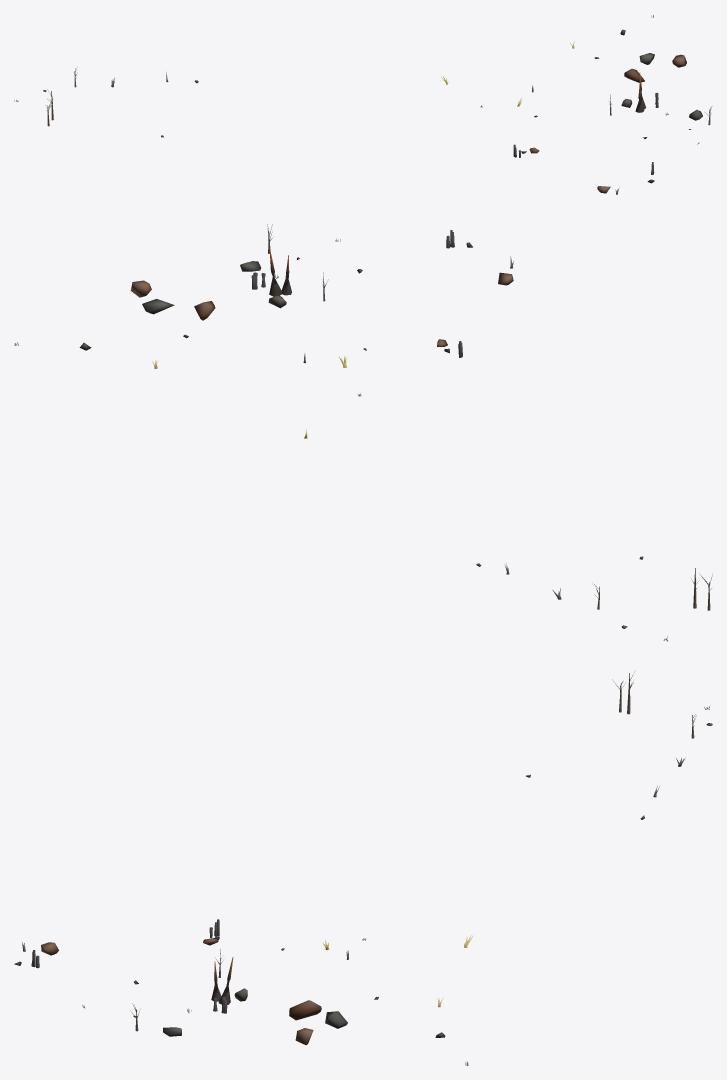
Rendered from ash_land_scatter_c22_31.glb.
3 views of the same model, one above another, from view 1: azimuth 30°, elevation 25°; view 2: azimuth 150°, elevation 25°; view 3: azimuth 270°, elevation 25° (orthographic). The views are drawn at different scales.
Visible parts, largest first — view 1: ash_land_scatter_c22_31; view 2: ash_land_scatter_c22_31; view 3: ash_land_scatter_c22_31.
Boxes of the visible parts, bbox=[...] form: ash_land_scatter_c22_31: bbox=[14, 15, 711, 194]; ash_land_scatter_c22_31: bbox=[14, 224, 712, 641]; ash_land_scatter_c22_31: bbox=[14, 670, 712, 1065].
Bounding box in the file's own units: 170 × 15.24 × 133.
